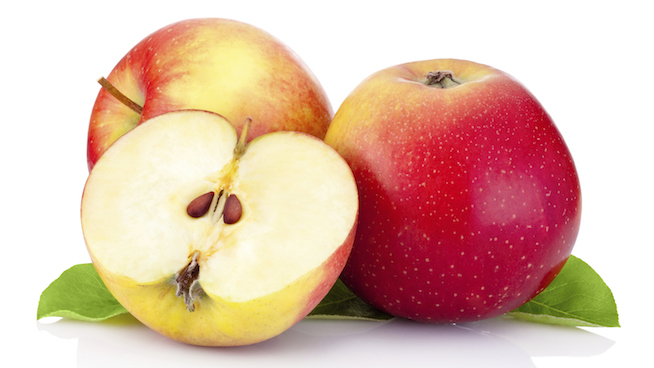apple: (319, 51, 582, 339), (79, 18, 338, 270)
